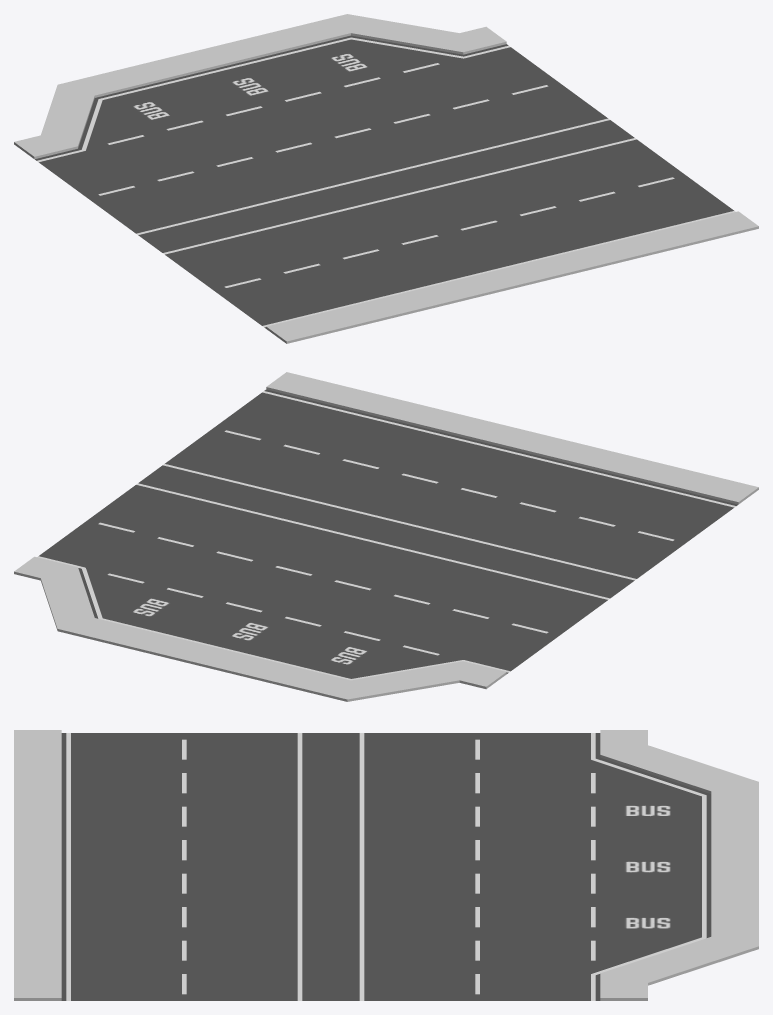
Rendered from SPW_Urban_Road 4way_Bus Lane.gltf.
3 views of the same model, one above another, from view 1: azimuth 30°, elevation 25°; view 2: azimuth 150°, elevation 25°; view 3: azimuth 270°, elevation 25° (orthographic). The views are drawn at different scales.
Parts seen in each view (by area): view 1: SPW_Urban_Road_4way_Bus_Lane; view 2: SPW_Urban_Road_4way_Bus_Lane; view 3: SPW_Urban_Road_4way_Bus_Lane.
Boxes of the visible parts, left/top/right/bottom form: SPW_Urban_Road_4way_Bus_Lane: left=14, top=14, right=758, bottom=343; SPW_Urban_Road_4way_Bus_Lane: left=14, top=372, right=758, bottom=701; SPW_Urban_Road_4way_Bus_Lane: left=14, top=730, right=758, bottom=1000.
Size of the model in its own units: 1575 by 7.87 by 1850.
Materials: 1 (1 with a texture image).
